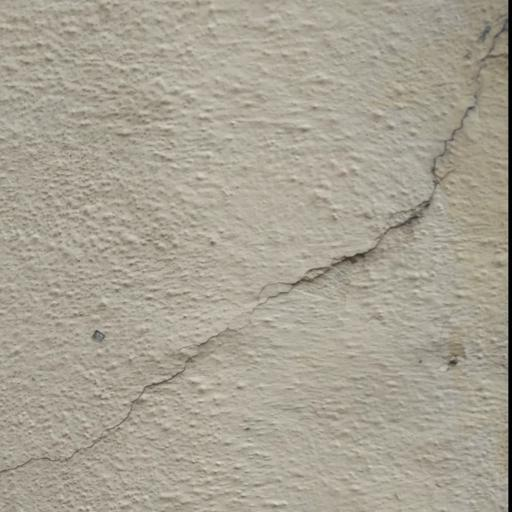minor_crack: (12, 5, 511, 494)
